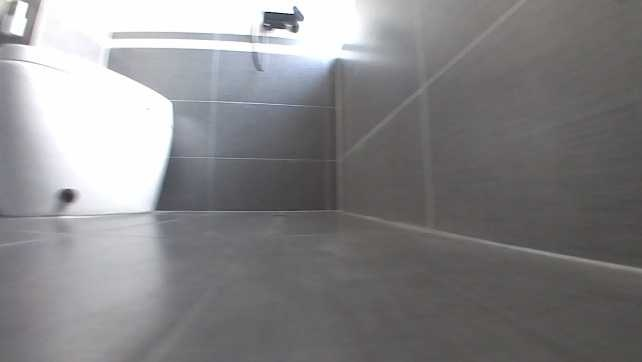toilet: (1, 40, 180, 216)
